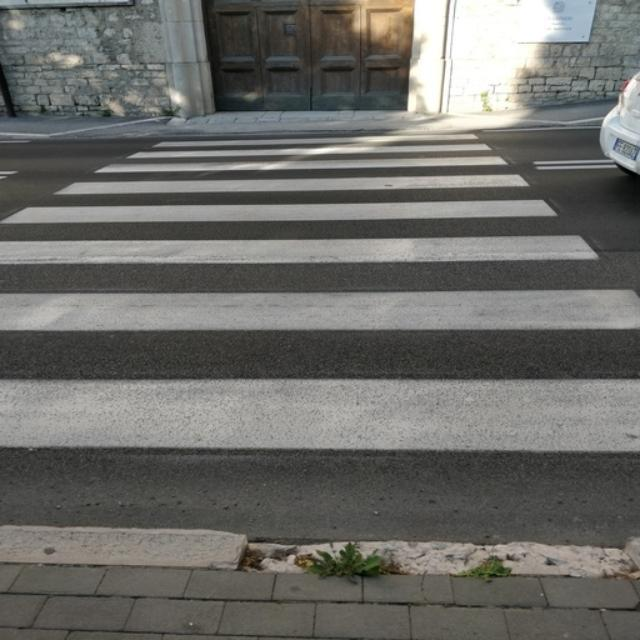sidewalk: (0, 128, 640, 575)
